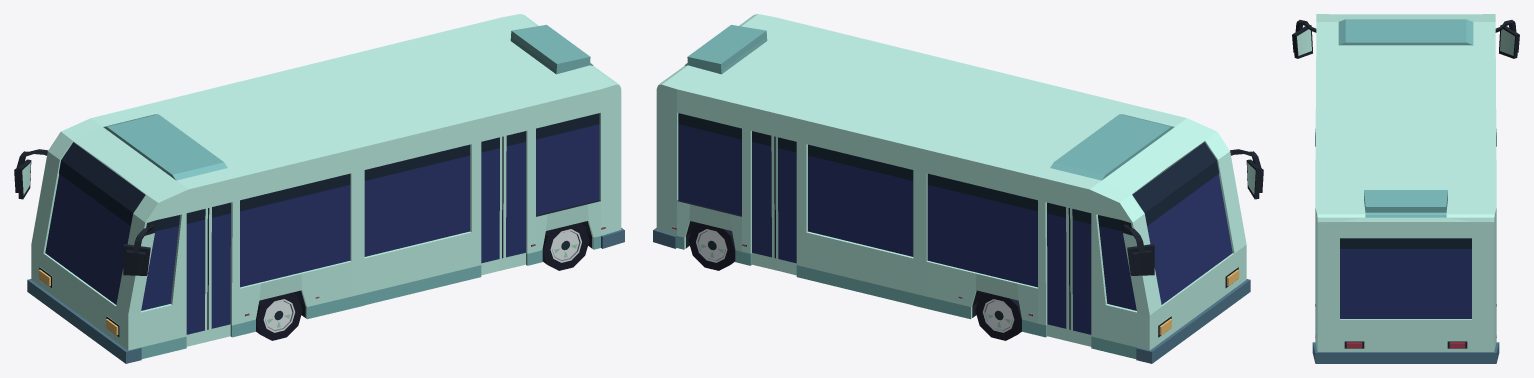
The model's file is Vehicle_Bus.fbx.
The picture shows the model from 3 angles, left to right: view 1: azimuth 30°, elevation 25°; view 2: azimuth 150°, elevation 25°; view 3: azimuth 270°, elevation 25°; orthographic projection. The views are drawn at different scales.
Parts seen in each view (by area): view 1: Cube.363; view 2: Cube.363; view 3: Cube.363.
Boxes of the visible parts, x1=… form: Cube.363: x1=14, y1=14, x2=624, y2=363; Cube.363: x1=653, y1=14, x2=1263, y2=363; Cube.363: x1=1292, y1=14, x2=1519, y2=363.
Bounding box in the file's own units: 1002 × 348 × 425.
